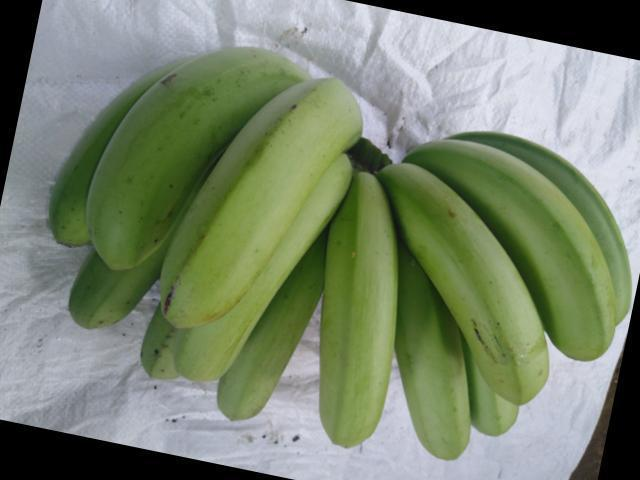unripe: (146, 73, 340, 328), (374, 152, 551, 426), (68, 35, 248, 282), (458, 141, 614, 375), (308, 170, 412, 449), (210, 239, 304, 425), (382, 292, 480, 469), (164, 273, 262, 385), (45, 253, 154, 334)
